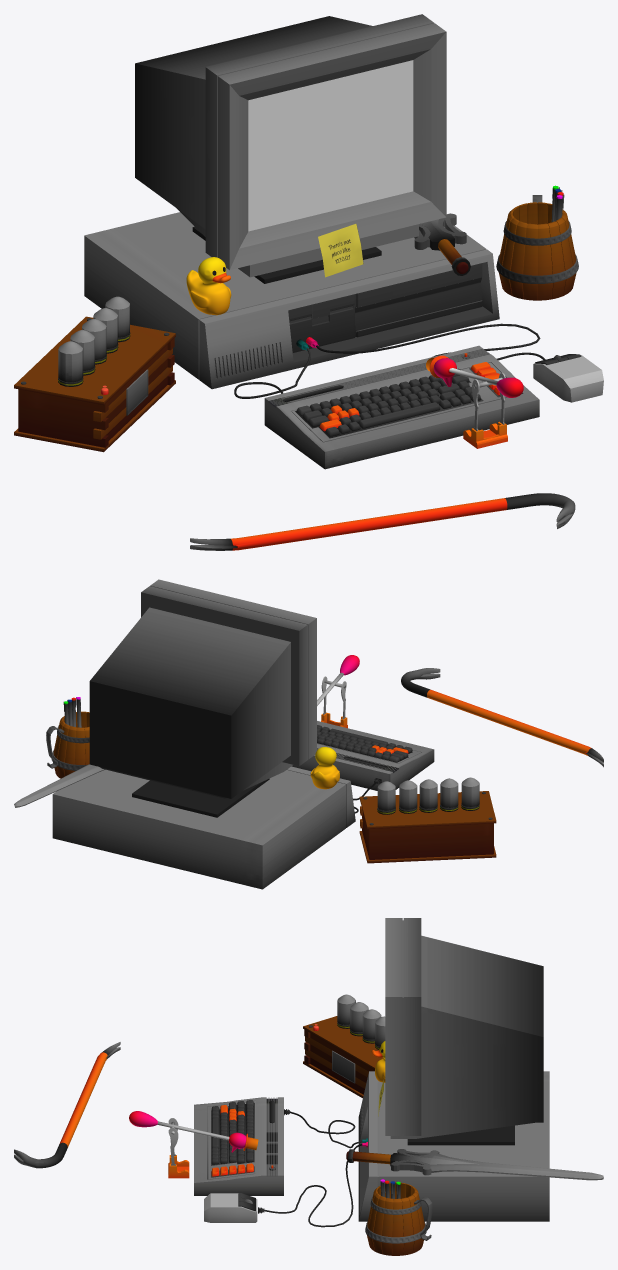
The model's file is HomeSecction.glb.
The picture shows the model from 3 angles, top to bottom: view 1: azimuth 30°, elevation 25°; view 2: azimuth 150°, elevation 25°; view 3: azimuth 270°, elevation 25°; orthographic projection. The views are drawn at different scales.
Parts seen in each view (by area): view 1: PC_Base_3, PC_Window, CPU_1, PC_Base_2, CPU_2, keyboard_box, Dixie_Box, CPU_3, keys, mug, Cylinder.011, mouse_box (+9 smaller); view 2: PC_Base_2, CPU_1, PC_Base_3, Dixie_Box, keyboard_box, Cylinder.011, PC_Base, keys, mug, duck, Heman_sword_1, mug_spings (+9 smaller); view 3: PC_Base_2, CPU_1, PC_Base_3, keyboard_box, Dixie_Box, mug, keys, Heman_sword_1, CPU_2, Cylinder.011, PC_Base, mouse_box (+6 smaller).
Part boxes in pixels (left/top/right/bottom): PC_Base_3: left=205, top=14, right=446, bottom=270; PC_Window: left=248, top=60, right=413, bottom=231; CPU_1: left=84, top=212, right=486, bottom=379; PC_Base_2: left=135, top=16, right=418, bottom=277; CPU_2: left=199, top=249, right=499, bottom=389; keyboard_box: left=264, top=345, right=539, bottom=469; Dixie_Box: left=14, top=316, right=175, bottom=452; CPU_3: left=288, top=263, right=482, bottom=352; keys: left=296, top=362, right=499, bottom=436; mug: left=498, top=202, right=576, bottom=300; Cylinder.011: left=190, top=493, right=575, bottom=550; mouse_box: left=533, top=355, right=603, bottom=402; PC_Base_2: left=89, top=607, right=292, bottom=798; CPU_1: left=52, top=769, right=346, bottom=889; PC_Base_3: left=141, top=579, right=316, bottom=766; Dixie_Box: left=359, top=791, right=496, bottom=863; keyboard_box: left=291, top=721, right=434, bottom=790; Cylinder.011: left=401, top=668, right=603, bottom=767; PC_Base: left=132, top=778, right=269, bottom=817; keys: left=317, top=725, right=412, bottom=762; mug: left=53, top=711, right=89, bottom=778; duck: left=310, top=747, right=339, bottom=789; Heman_sword_1: left=14, top=764, right=104, bottom=807; mug_spings: left=46, top=725, right=89, bottom=770; PC_Base_2: left=390, top=935, right=543, bottom=1138; CPU_1: left=377, top=1071, right=549, bottom=1221; PC_Base_3: left=385, top=918, right=421, bottom=1135; keyboard_box: left=194, top=1097, right=283, bottom=1195; Dixie_Box: left=303, top=1016, right=383, bottom=1098; mug: left=367, top=1182, right=424, bottom=1255; keys: left=211, top=1100, right=253, bottom=1176; Heman_sword_1: left=391, top=1149, right=603, bottom=1180; CPU_2: left=358, top=1071, right=377, bottom=1221; Cylinder.011: left=14, top=1042, right=120, bottom=1168; PC_Base: left=407, top=1125, right=514, bottom=1145; mouse_box: left=204, top=1193, right=257, bottom=1222.
Size of the model in its own units: 30.05 by 14.04 by 35.29.
2 materials, 2 textured.
